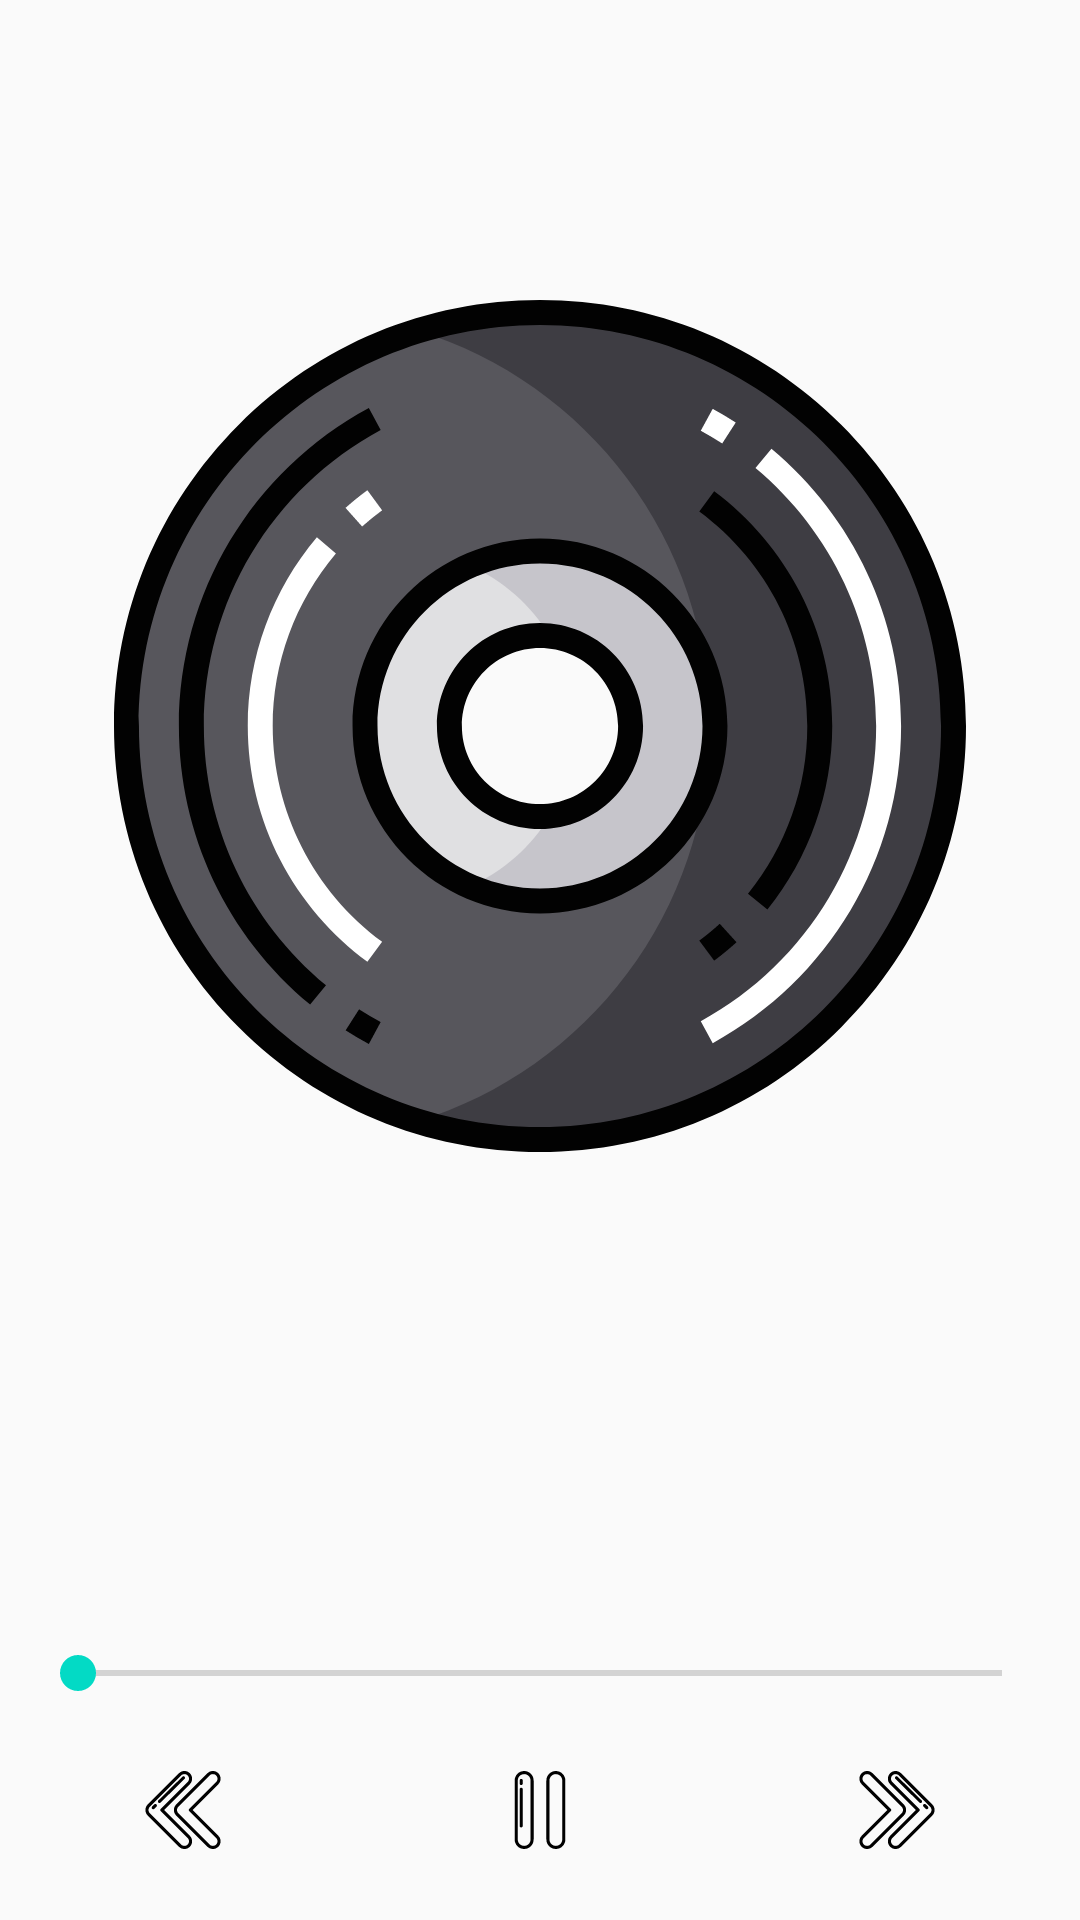

Screen size 1080px x 1920px. Icon name, then its center in pixels as (x=x, y=y):
backward: (x=183, y=1810)
forward: (x=897, y=1810)
pause: (x=540, y=1810)
